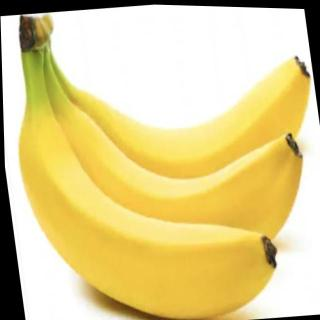banana: (11, 87, 285, 320), (44, 78, 318, 290), (59, 64, 320, 213)
